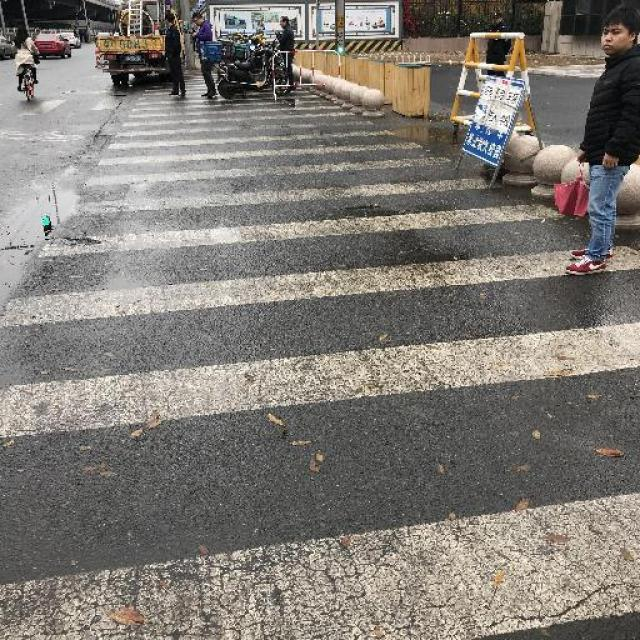faded_crosswalk: (2, 90, 640, 639)
